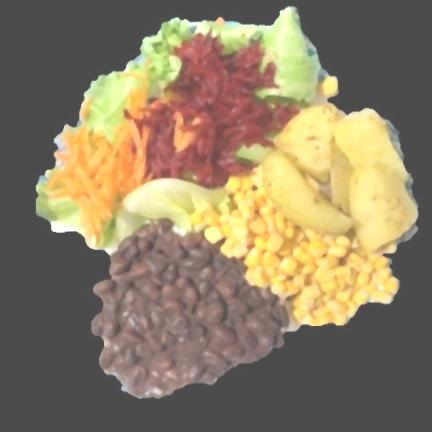beans: (92, 220, 289, 396)
beet: (143, 33, 297, 186)
carrot: (47, 122, 150, 240)
corn: (205, 168, 394, 325)
potato: (263, 103, 417, 252)
salad: (80, 7, 320, 142), (116, 179, 229, 240), (36, 170, 83, 232)
